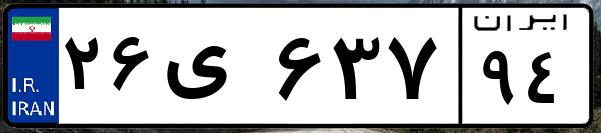2: (57, 26, 110, 100)
3: (330, 28, 385, 110)
4: (525, 38, 570, 115)
6: (270, 28, 330, 110), (110, 28, 158, 98)
7: (385, 28, 445, 110)
9: (475, 38, 525, 113)
ی: (158, 20, 270, 120)
